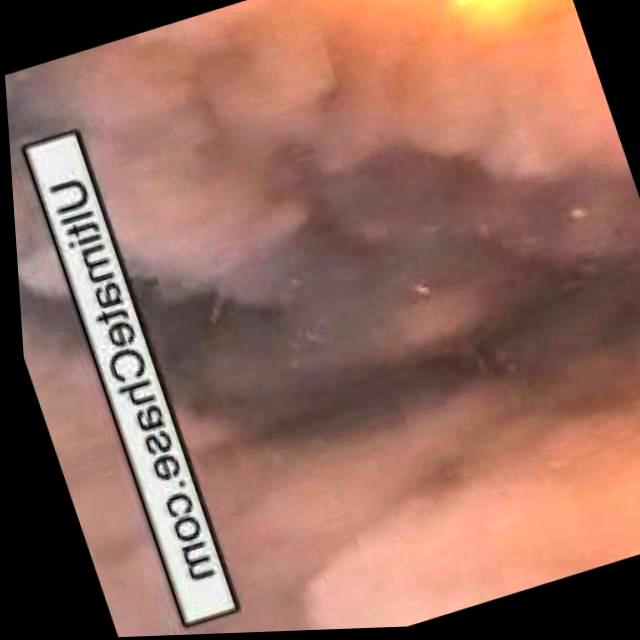fire: (262, 0, 584, 116)
